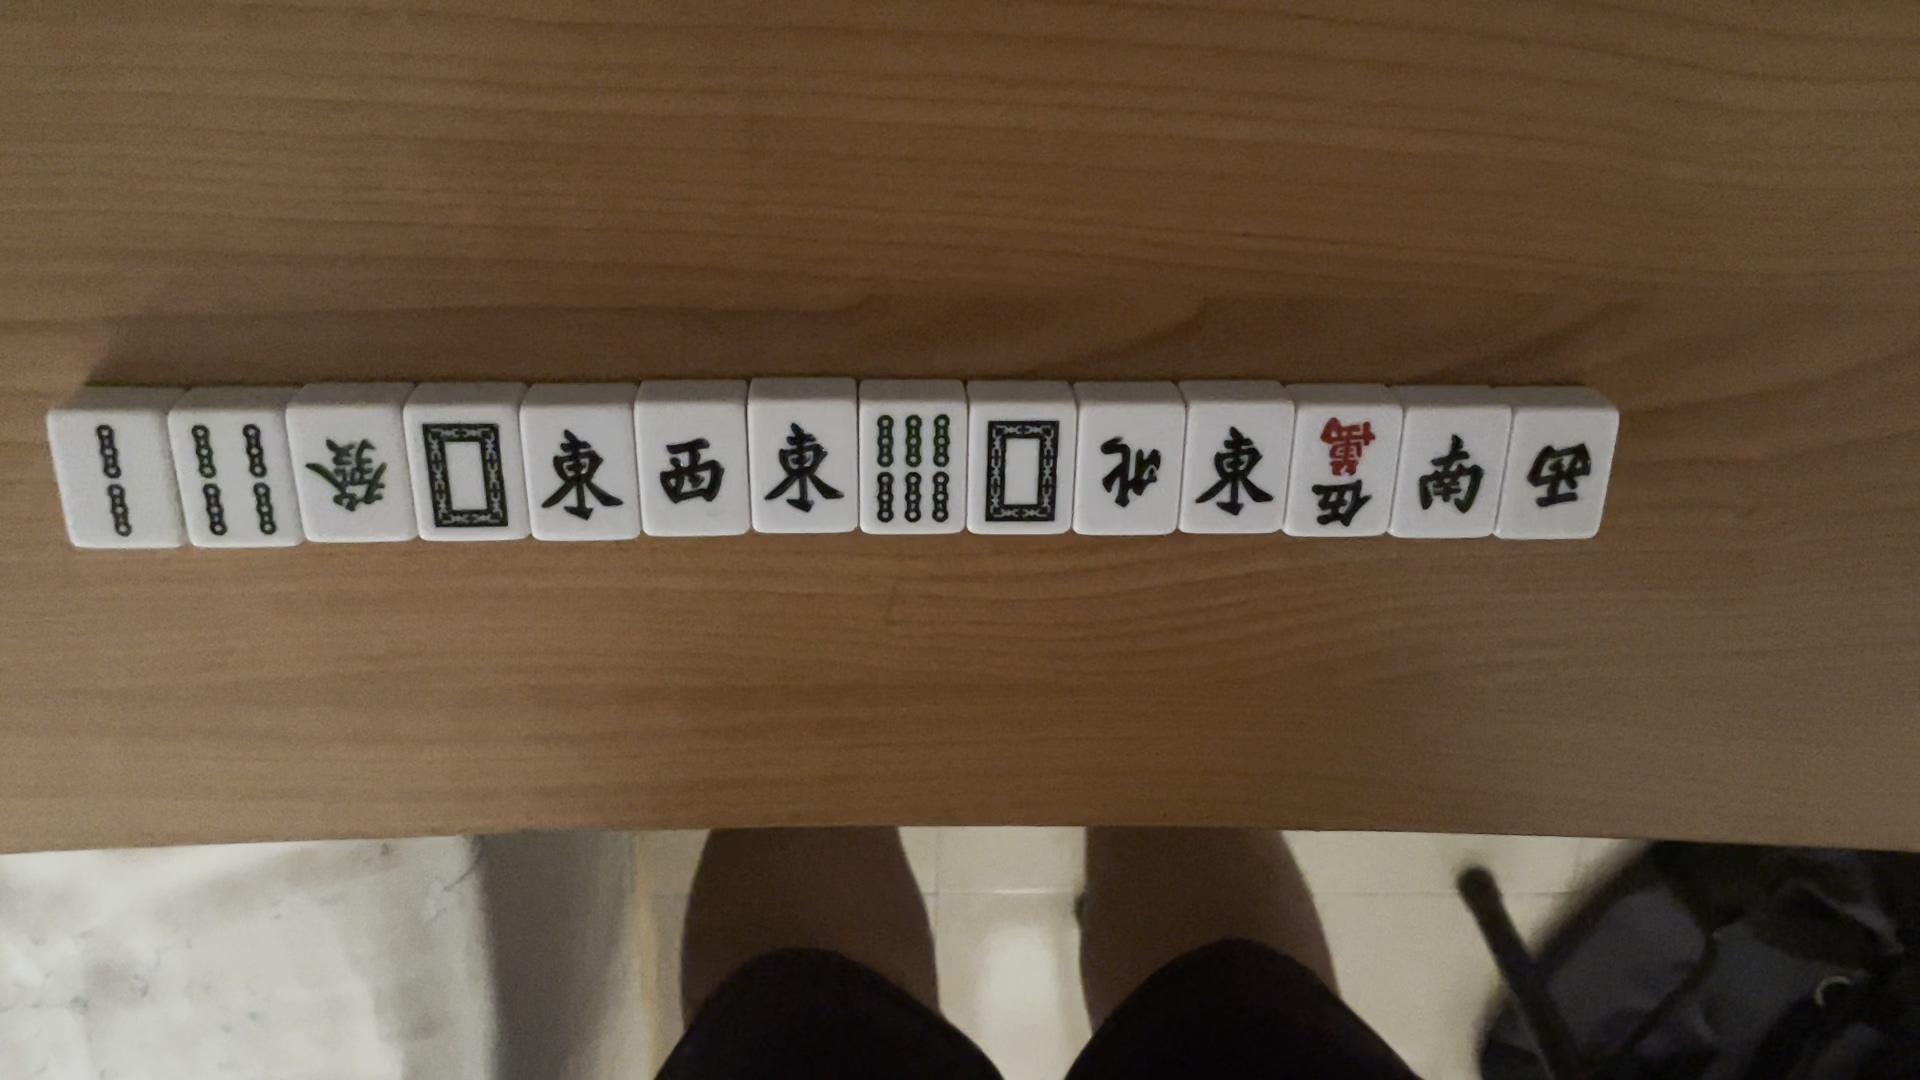b-2: (80, 411, 154, 546)
b-4: (189, 419, 281, 547)
b-6: (872, 411, 957, 527)
c-5: (1307, 405, 1387, 535)
honors-east: (760, 411, 851, 527), (1193, 418, 1280, 531), (539, 425, 628, 531)
honors-green: (305, 429, 394, 518)
honors-north: (1091, 425, 1174, 518)
honors-south: (1407, 422, 1490, 525)
honors-west: (649, 431, 742, 518), (1524, 433, 1604, 524)
honors-white: (415, 411, 516, 534), (977, 414, 1067, 530)
